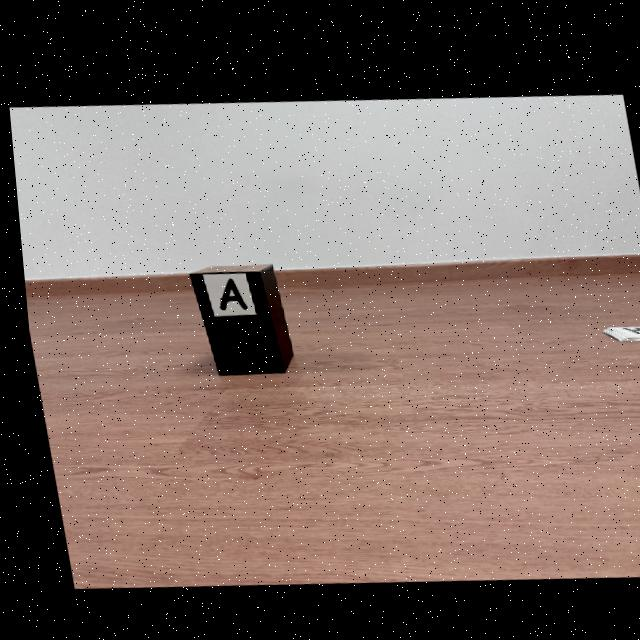A: (214, 276, 242, 307)
